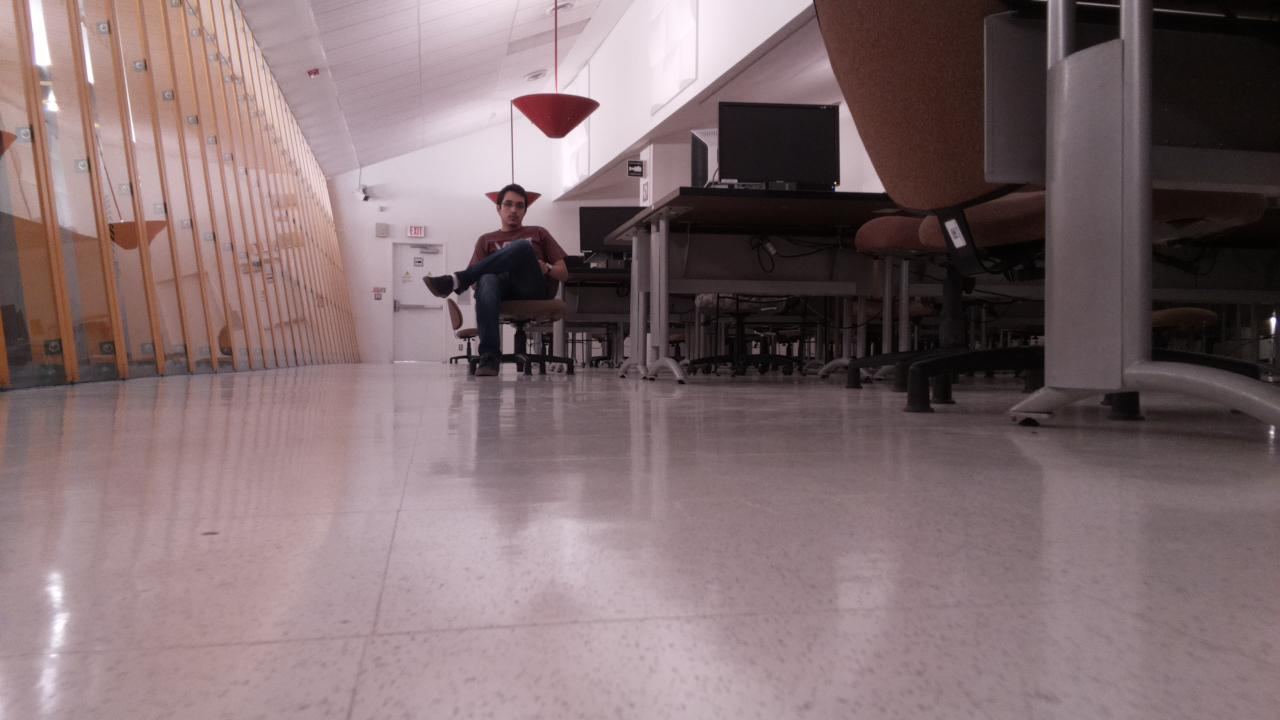door: (394, 245, 442, 361)
person: (423, 183, 569, 376)
sign: (628, 161, 642, 175), (408, 224, 423, 236)
tvmonitor: (719, 101, 839, 185), (580, 205, 649, 252)
